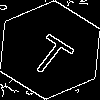T: (25, 25, 82, 81)
